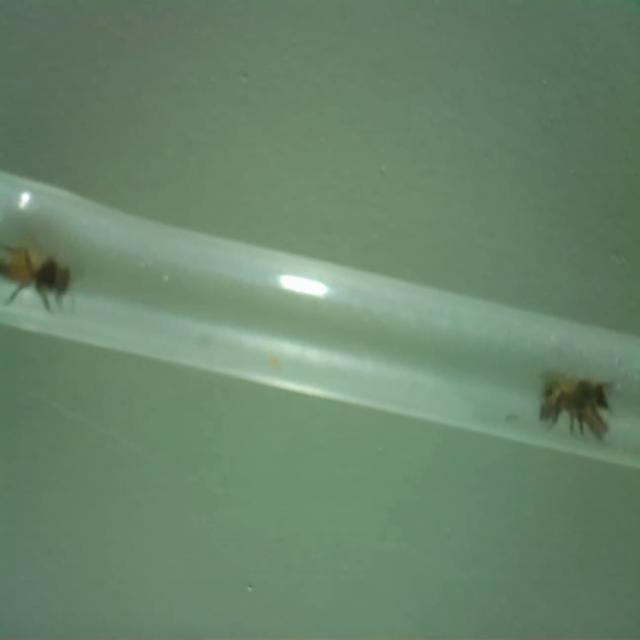Honeybee-Detection: (534, 350, 628, 448), (0, 244, 74, 312)
